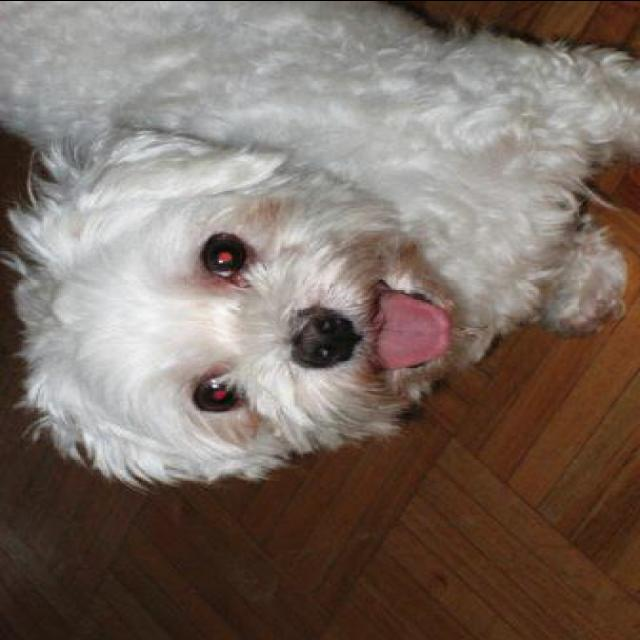maltese_dog: (4, 2, 638, 484)
